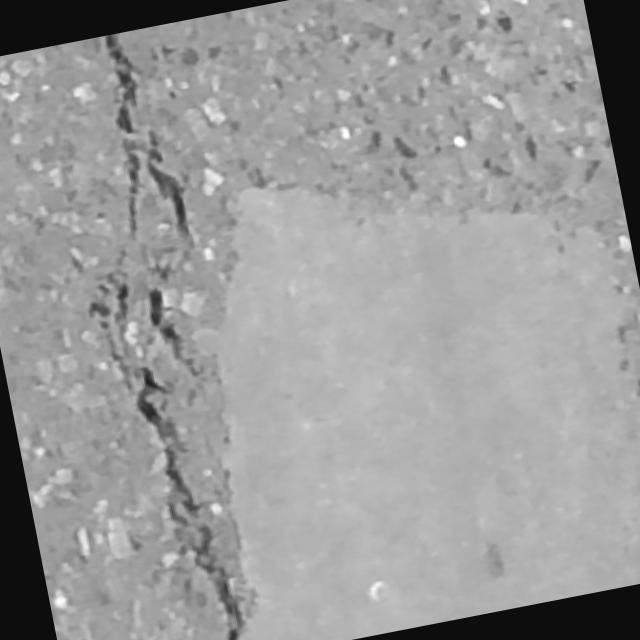crack: (35, 26, 288, 640)
